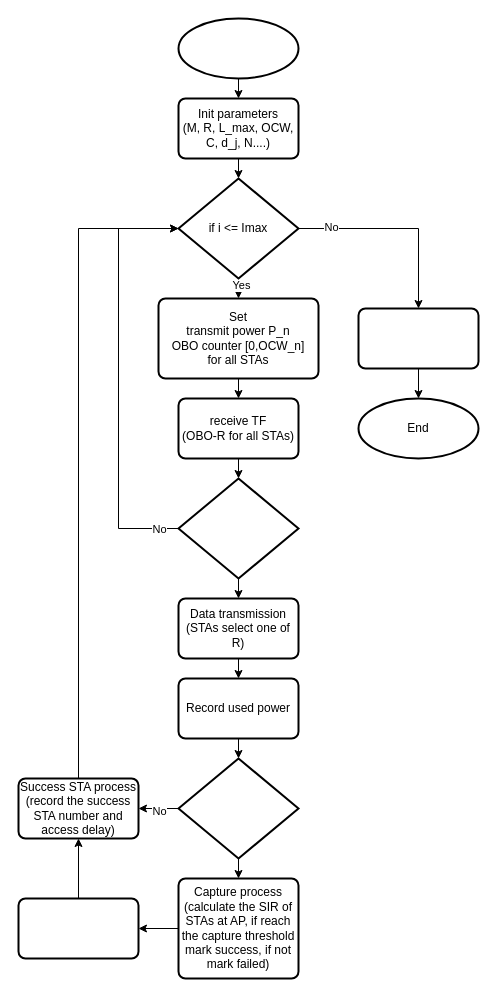
Image size: 496x996. Some labels were removed from this diagram. Each missing label, with the centre of its shape:
Fail STA process (if n=5 remove the STA): (x=78, y=928)
If any OBO <= 0: (x=238, y=528)
if any R selected by > 2 STAs: (x=238, y=808)
Return the performance metric (P, D, U, E): (x=418, y=338)
Start: (x=238, y=48)
